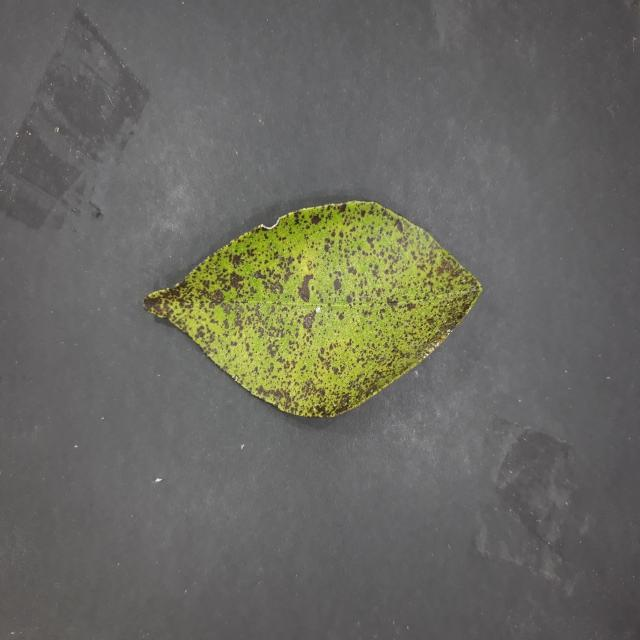greasy_spot: (144, 201, 481, 417)
